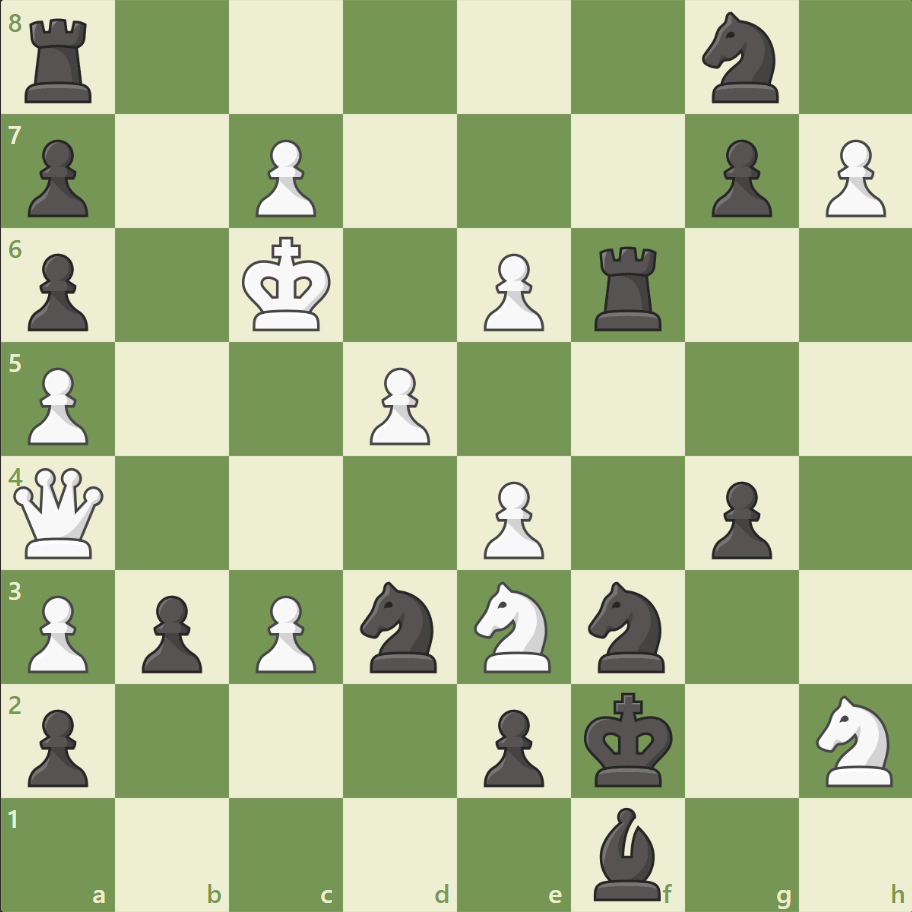K: (238, 231, 338, 339)
N: (806, 688, 903, 791), (465, 575, 562, 677)
P: (247, 132, 322, 223), (474, 246, 549, 337), (20, 359, 95, 450), (474, 473, 549, 564), (20, 586, 95, 677), (247, 586, 322, 677), (815, 132, 889, 223), (361, 359, 435, 450)
Q: (10, 463, 109, 562)
b: (585, 801, 669, 904)
k: (579, 685, 679, 793)
n: (351, 575, 449, 677), (692, 7, 789, 110), (579, 575, 676, 677)
p: (20, 132, 95, 223), (701, 132, 776, 223), (20, 246, 95, 337), (701, 473, 776, 564), (133, 586, 208, 677), (20, 700, 95, 791), (474, 700, 549, 791)
r: (19, 12, 102, 109), (587, 239, 670, 336)
